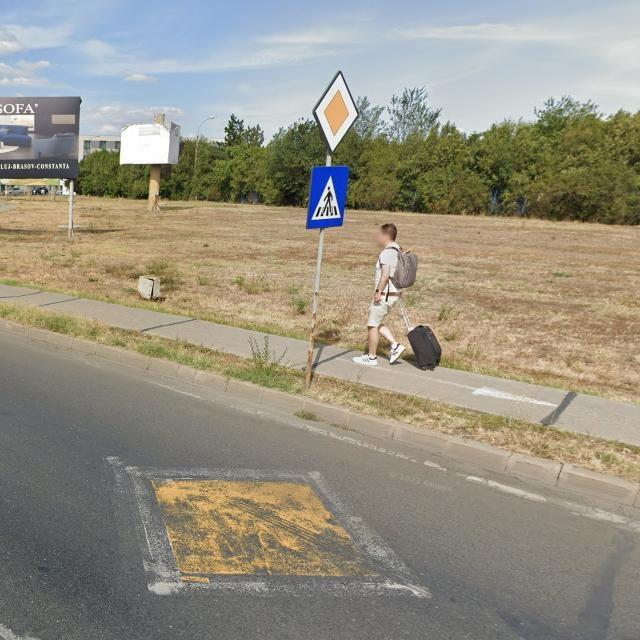info_crosswalk: (306, 165, 347, 228)
